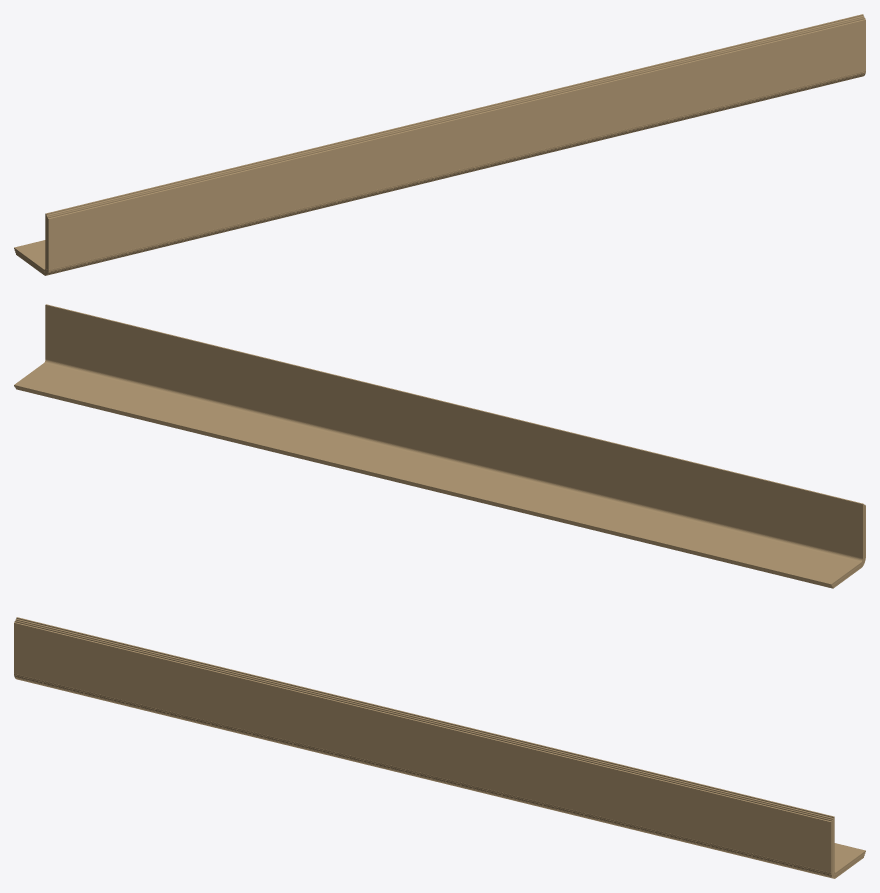
The model's file is paper.glb.
3 views of the same model, one above another, from view 1: azimuth 30°, elevation 25°; view 2: azimuth 150°, elevation 25°; view 3: azimuth 330°, elevation 25° (orthographic).
Visible parts, largest first — view 1: RightWing_3, RightWing_0, RightWing_1, RightWing_2, BendPanel_3_7, BendPanel_3_6, BendPanel_3_5, BendPanel_3_4, BendPanel_3_3, LeftWing_0; view 2: RightWing_0, LeftWing_0, LeftWing_2, LeftWing_1, LeftWing_3, BendPanel_0_5, BendPanel_0_6, BendPanel_0_4, BendPanel_0_3, BendPanel_0_7, BendPanel_0_2, BendPanel_0_1 (+1 smaller); view 3: RightWing_3, RightWing_0, RightWing_1, RightWing_2, BendPanel_3_7, BendPanel_3_6, BendPanel_3_5, BendPanel_3_4, BendPanel_3_3, LeftWing_0.
Boxes of the visible parts, <box> form: RightWing_3: <box>48,19,865,269</box>; RightWing_0: <box>45,14,863,267</box>; RightWing_1: <box>46,16,864,268</box>; RightWing_2: <box>47,17,865,269</box>; BendPanel_3_7: <box>47,70,865,271</box>; BendPanel_3_6: <box>47,72,865,272</box>; BendPanel_3_5: <box>47,73,865,273</box>; BendPanel_3_4: <box>47,75,864,274</box>; BendPanel_3_3: <box>46,76,863,275</box>; LeftWing_0: <box>14,240,45,270</box>; RightWing_0: <box>45,304,863,558</box>; LeftWing_0: <box>14,363,861,585</box>; LeftWing_2: <box>15,387,861,587</box>; LeftWing_1: <box>15,386,861,586</box>; LeftWing_3: <box>16,388,861,588</box>; BendPanel_0_5: <box>45,360,862,560</box>; BendPanel_0_6: <box>45,359,863,559</box>; BendPanel_0_4: <box>45,361,862,560</box>; BendPanel_0_3: <box>45,361,862,561</box>; BendPanel_0_7: <box>45,359,863,558</box>; BendPanel_0_2: <box>45,362,862,562</box>; BendPanel_0_1: <box>44,362,861,562</box>; RightWing_3: <box>14,622,831,872</box>; RightWing_0: <box>16,617,834,870</box>; RightWing_1: <box>15,619,833,871</box>; RightWing_2: <box>14,620,832,872</box>; BendPanel_3_7: <box>14,673,832,874</box>; BendPanel_3_6: <box>14,675,832,875</box>; BendPanel_3_5: <box>14,676,832,876</box>; BendPanel_3_4: <box>15,678,832,877</box>; BendPanel_3_3: <box>16,679,833,878</box>; LeftWing_0: <box>834,843,865,873</box>.
Bounding box in the file's own units: 0.6 × 0.0441 × 0.0441.
